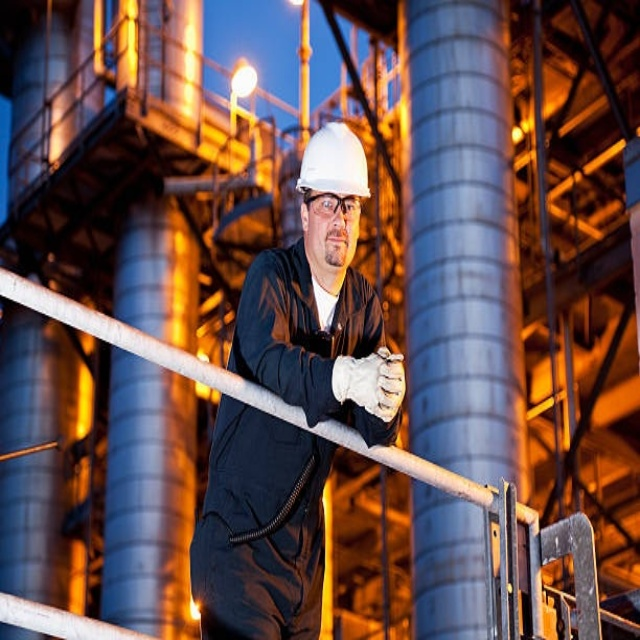Gafas: (305, 192, 364, 218)
Guantes: (334, 349, 404, 419)
Sin_mascara: (323, 227, 351, 260)
